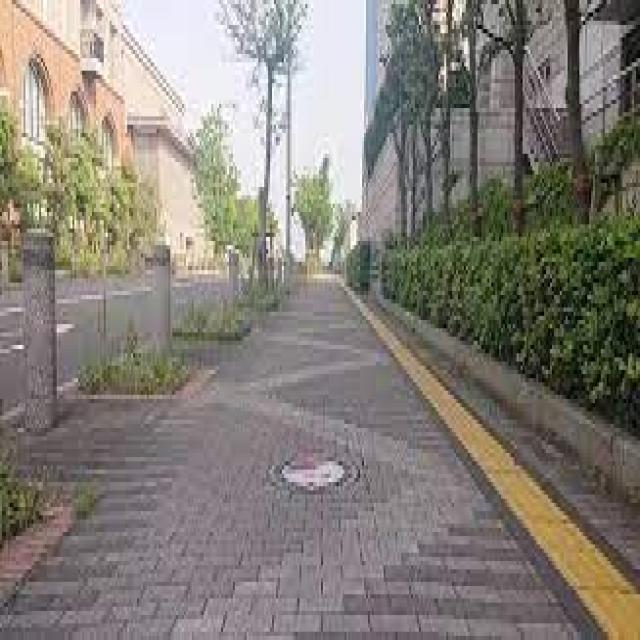manhole: (277, 456, 349, 498)
